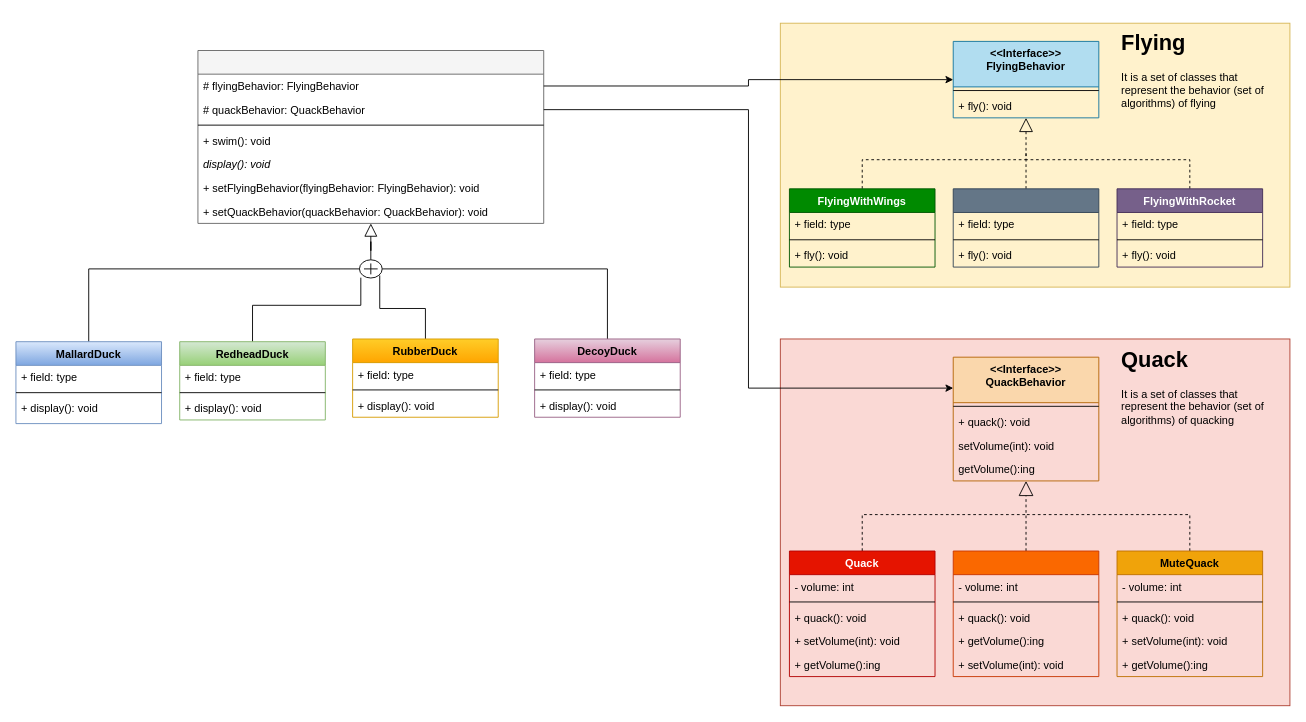
The diagram is 1306 pixels wide and 722 high, and some of its shapes have lost their labels. Each missing label, with the box of its shape:
Duck: (197, 50, 544, 223)
NoFlying: (952, 188, 1099, 267)
Squack: (952, 550, 1099, 677)
